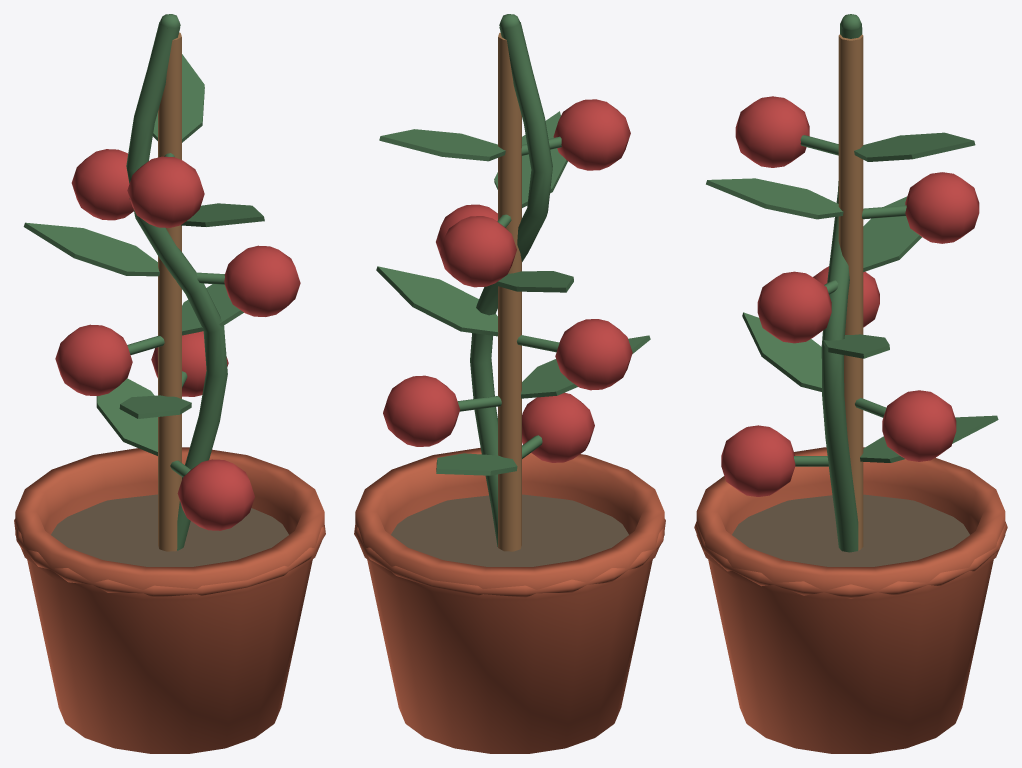
The model's file is almanac-gardens-tomato-vine-91d91cd8__22049.glb.
3 views of the same model, side by side, from view 1: azimuth 30°, elevation 25°; view 2: azimuth 150°, elevation 25°; view 3: azimuth 270°, elevation 25° (orthographic).
Parts seen in each view (by area): view 1: tomato-vine-clay, tomato-vine-leaf, tomato-vine-red, tomato-vine-soil, tomato-vine-oak; view 2: tomato-vine-clay, tomato-vine-leaf, tomato-vine-red, tomato-vine-soil, tomato-vine-oak; view 3: tomato-vine-clay, tomato-vine-red, tomato-vine-leaf, tomato-vine-soil, tomato-vine-oak.
Boxes of the visible parts, x1,y1,x2,y2 form: tomato-vine-clay: (14, 447, 325, 753); tomato-vine-leaf: (23, 14, 264, 550); tomato-vine-red: (55, 149, 300, 530); tomato-vine-soil: (51, 494, 288, 566); tomato-vine-oak: (158, 32, 181, 551); tomato-vine-clay: (354, 447, 665, 753); tomato-vine-leaf: (376, 14, 650, 546); tomato-vine-red: (383, 99, 632, 462); tomato-vine-soil: (391, 494, 628, 566); tomato-vine-oak: (498, 32, 521, 551); tomato-vine-clay: (694, 447, 1007, 753); tomato-vine-red: (721, 96, 979, 496); tomato-vine-leaf: (706, 14, 998, 552); tomato-vine-soil: (732, 494, 969, 566); tomato-vine-oak: (838, 34, 863, 550).
Size of the model in its own units: 0.5075 by 1.24 by 0.5075.
